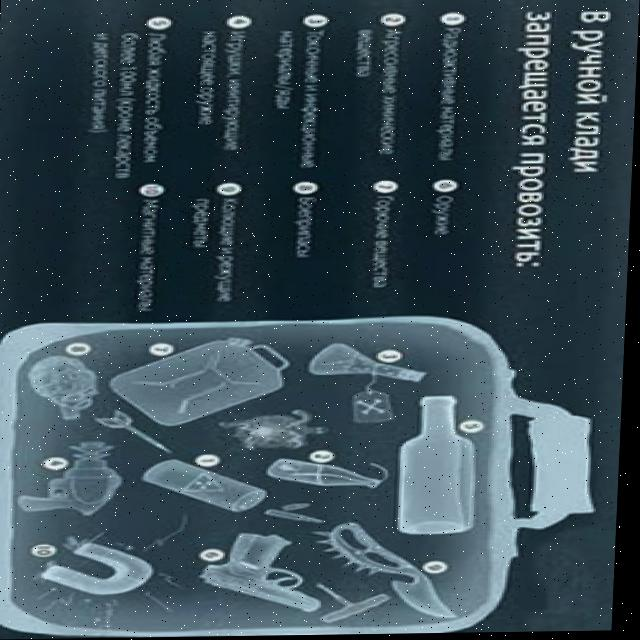grenade: (396, 393, 497, 540), (272, 451, 394, 499), (25, 354, 104, 422)
knife: (321, 521, 466, 622)
pistol: (202, 533, 328, 612), (20, 440, 127, 520)
